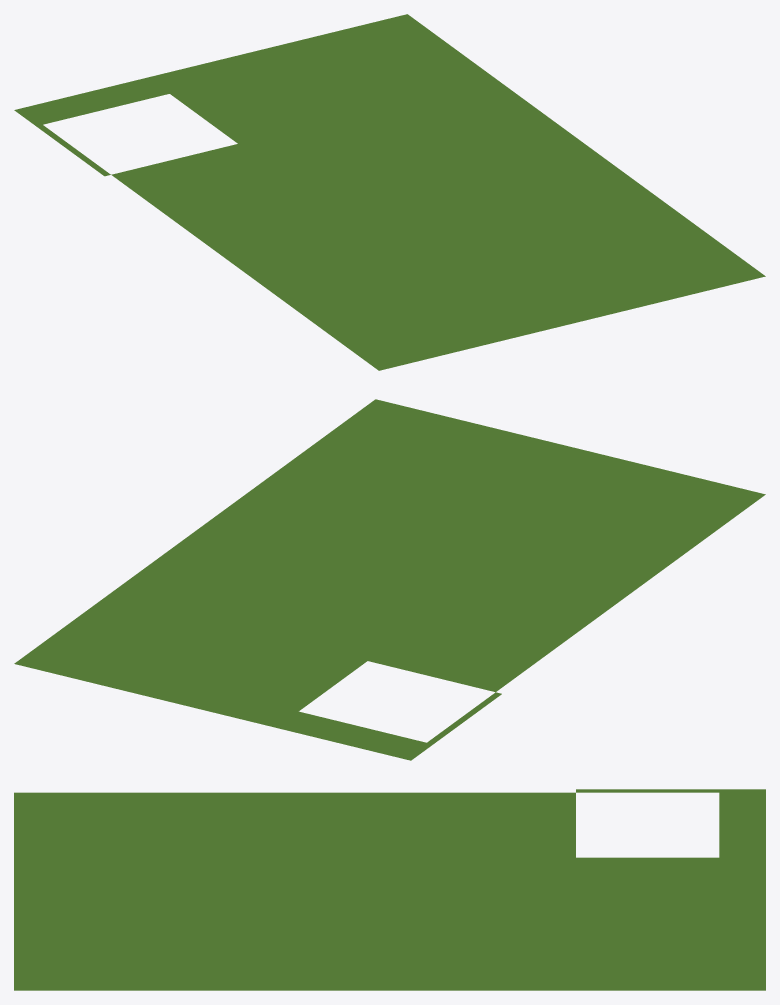
Rendered from garden.fbx.
The picture shows the model from 3 angles, top to bottom: view 1: azimuth 30°, elevation 25°; view 2: azimuth 150°, elevation 25°; view 3: azimuth 270°, elevation 25°; orthographic projection. The views are drawn at different scales.
Parts seen in each view (by area): view 1: garden.001; view 2: garden.001; view 3: garden.001.
Part boxes in pixels (x1,y1,x2,y2): garden.001: (14,14,765,370); garden.001: (14,399,765,760); garden.001: (14,789,765,990).
Size of the model in its own units: 380 by 0 by 600.
